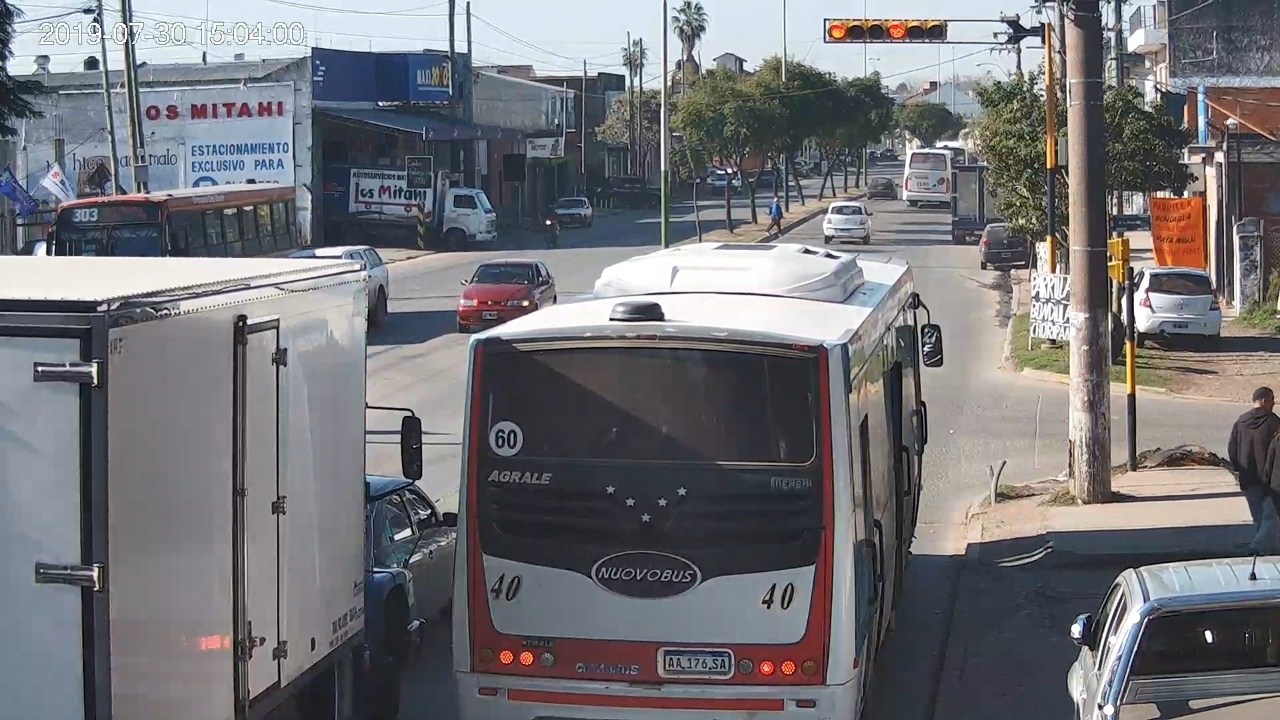bus: (454, 244, 944, 720)
car: (823, 201, 873, 244)
